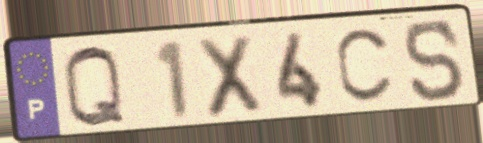1: (154, 37, 191, 125)
4: (274, 29, 327, 113)
C: (333, 25, 396, 107)
Q: (59, 43, 130, 132)
S: (401, 17, 468, 105)
X: (193, 32, 266, 122)
